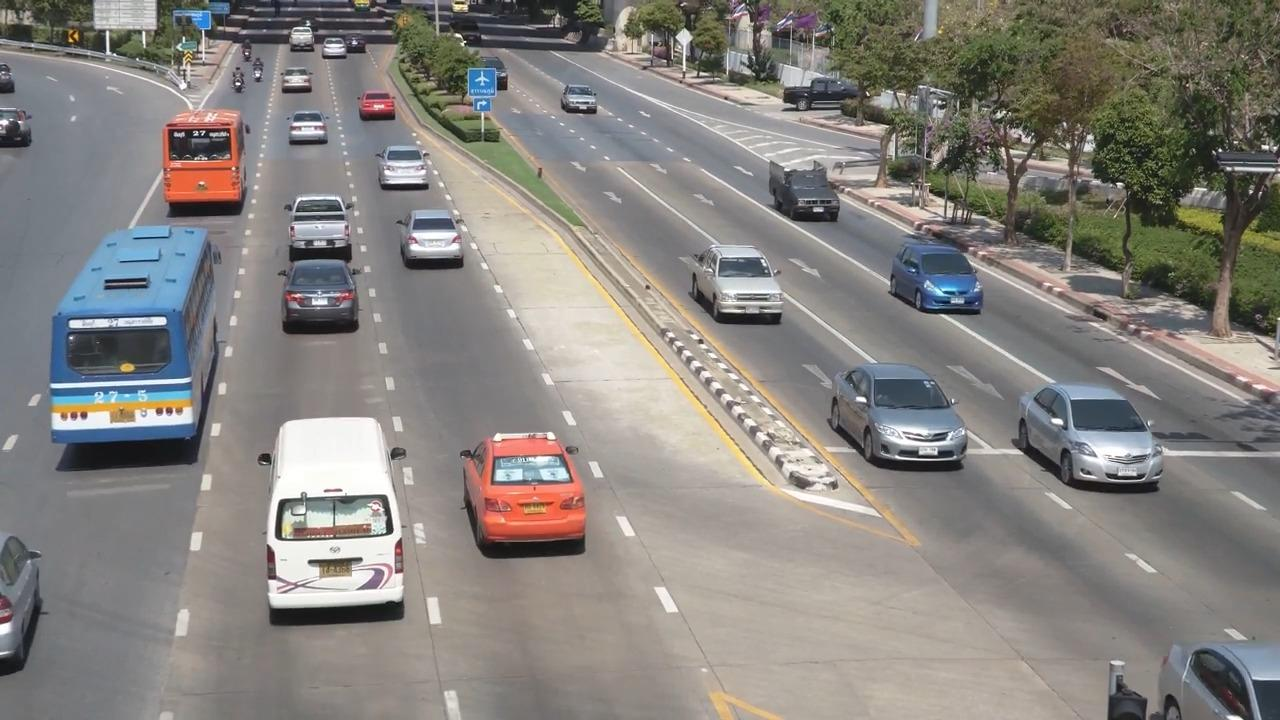CAR: (244, 407, 453, 641), (449, 420, 610, 576), (1007, 366, 1181, 506), (818, 347, 982, 481), (266, 256, 381, 354), (694, 229, 797, 321), (265, 190, 368, 279), (884, 238, 982, 316), (758, 152, 840, 230), (773, 68, 865, 133), (398, 207, 478, 275), (370, 140, 438, 199), (281, 102, 340, 159), (548, 77, 612, 128), (273, 22, 329, 65), (353, 83, 404, 129), (273, 62, 325, 107), (335, 29, 374, 64), (317, 43, 354, 73)
HGV_BUS: (31, 215, 228, 471), (141, 108, 257, 226)
MOTOR: (227, 35, 260, 74), (242, 62, 272, 104), (219, 69, 243, 102)
